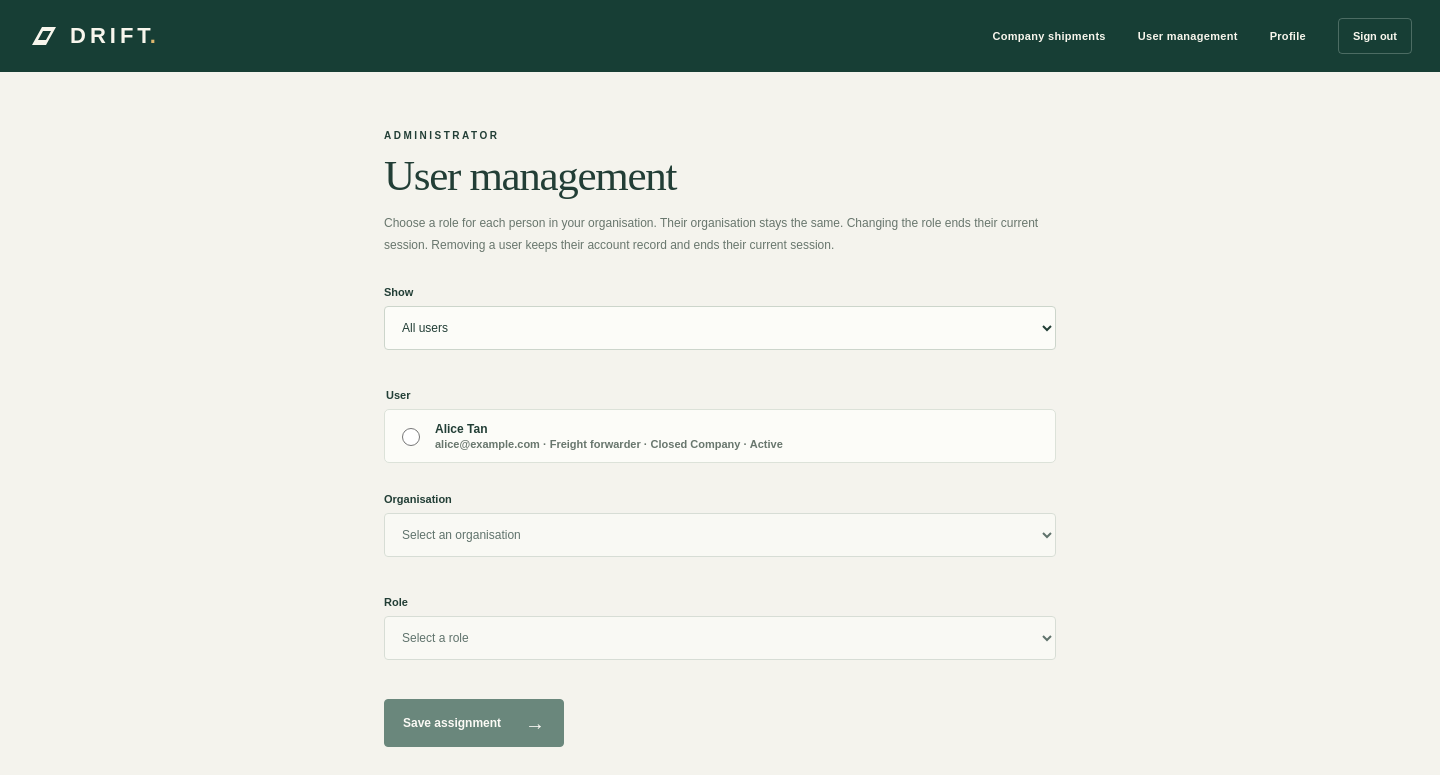
user management › asks for an active organisation when the current one is inactive
Click the radio button labelled "Alice Tan" at (411, 437), box [402, 428, 420, 446]
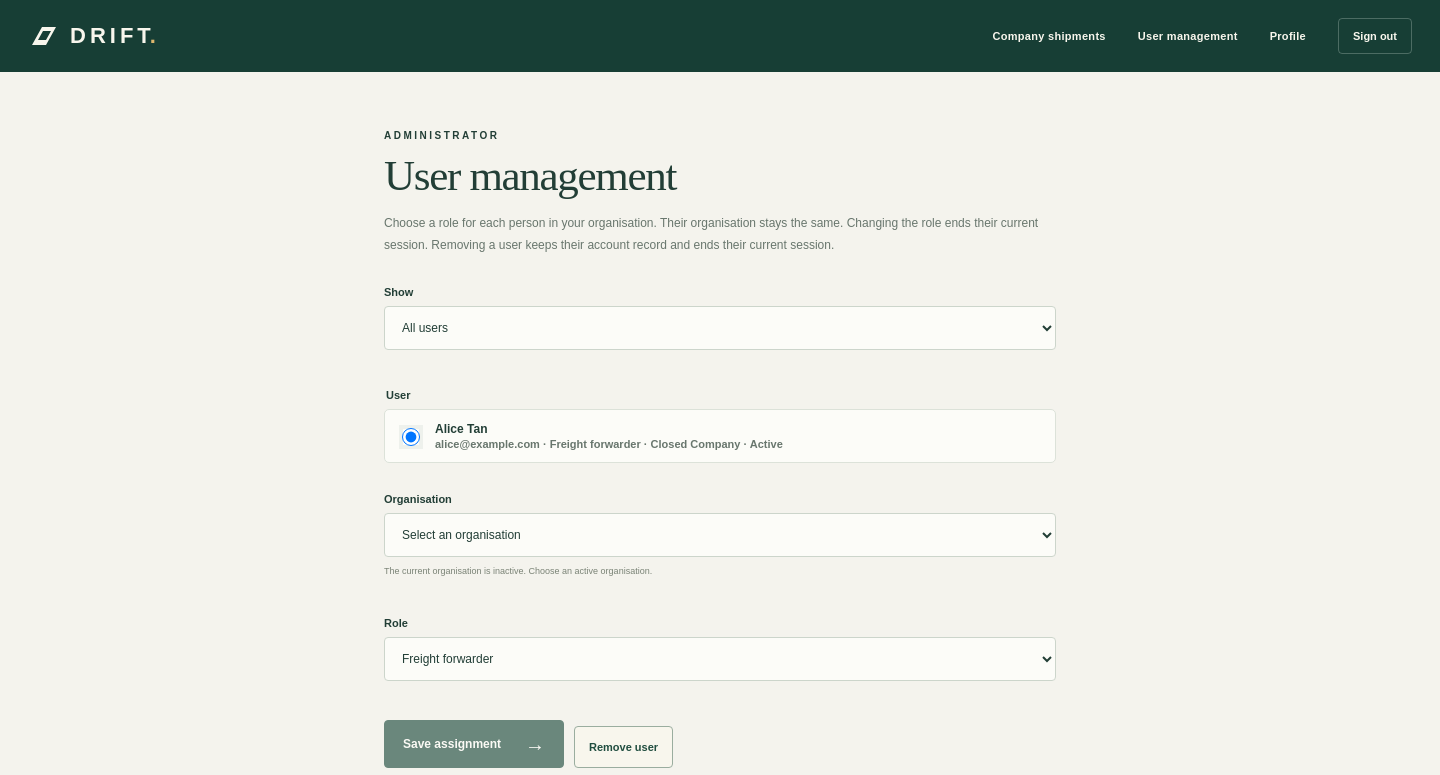
Expected: the dropdown labelled "Organisation" shows "Select an organisation", [384, 513, 1056, 557]
Expected: the text "The current organisation is inactive. Choose an active organisation." is shown, [384, 566, 652, 576]
